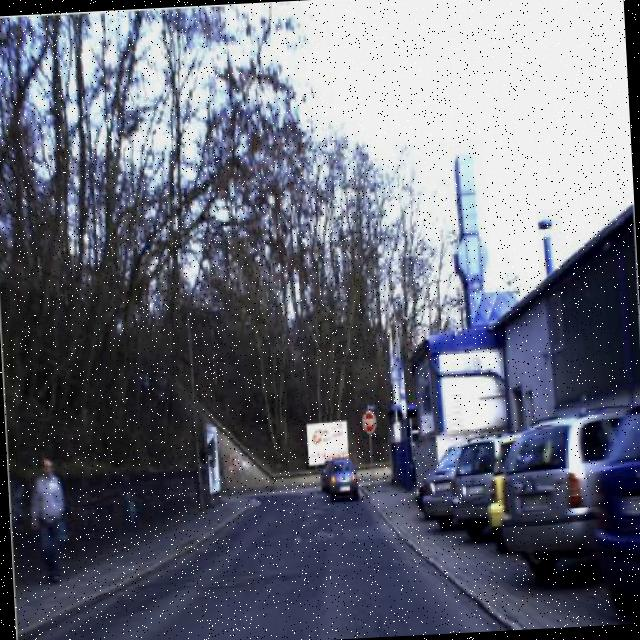Stop: (361, 410, 378, 438)
